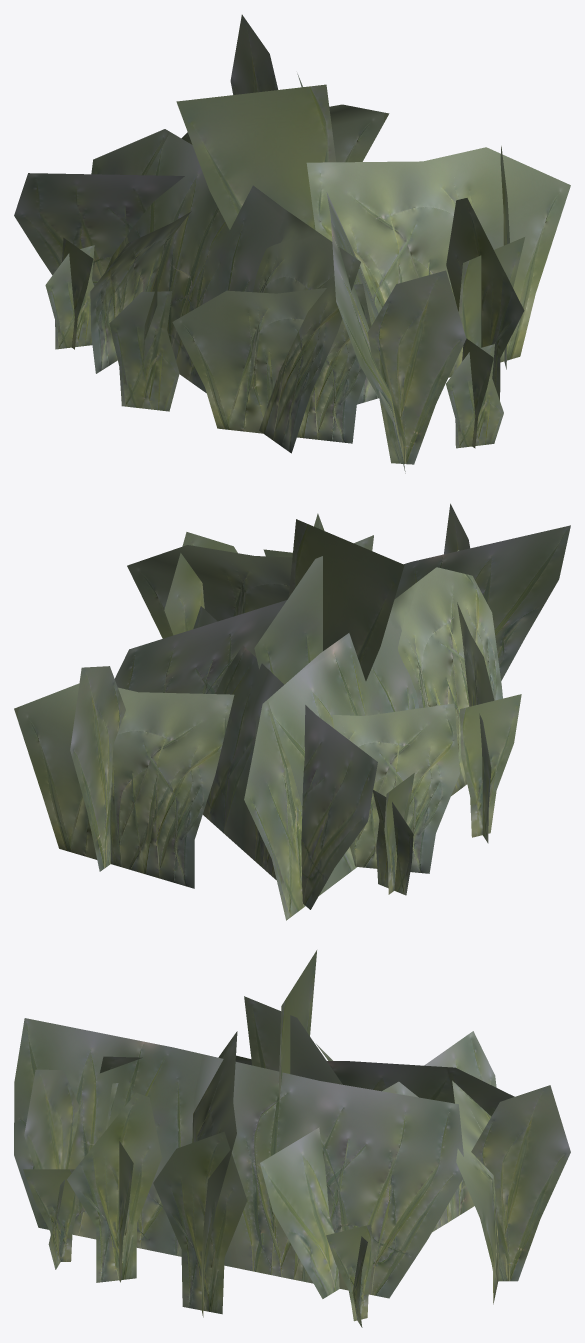
Rendered from sm_Grass_01_02.fbx.
3 views of the same model, one above another, from view 1: azimuth 30°, elevation 25°; view 2: azimuth 150°, elevation 25°; view 3: azimuth 270°, elevation 25° (orthographic). The views are drawn at different scales.
Parts seen in each view (by area): view 1: sm_Grass_01_02_LOD0; view 2: sm_Grass_01_02_LOD0; view 3: sm_Grass_01_02_LOD0.
Boxes of the visible parts, x1,y1,x2,y2 form: sm_Grass_01_02_LOD0: (14,14,570,473); sm_Grass_01_02_LOD0: (14,503,570,920); sm_Grass_01_02_LOD0: (14,950,570,1327).
Size of the model in its own units: 108 by 140 by 69.44.
